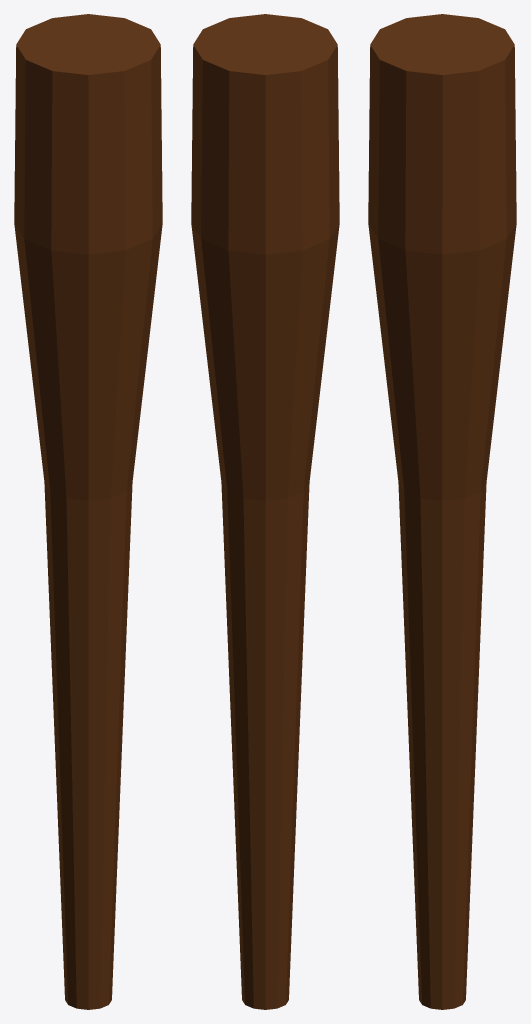
Rendered from torch_stick.fbx.
3 views of the same model, side by side, from view 1: azimuth 30°, elevation 25°; view 2: azimuth 150°, elevation 25°; view 3: azimuth 270°, elevation 25° (orthographic).
Parts seen in each view (by area): view 1: Cylinder; view 2: Cylinder; view 3: Cylinder.
Boxes of the visible parts, left/top/right/bottom form: Cylinder: left=14, top=14, right=162, bottom=1009; Cylinder: left=191, top=14, right=339, bottom=1009; Cylinder: left=368, top=14, right=516, bottom=1009.
Bounding box in the file's own units: 48.59 × 345 × 48.59.
